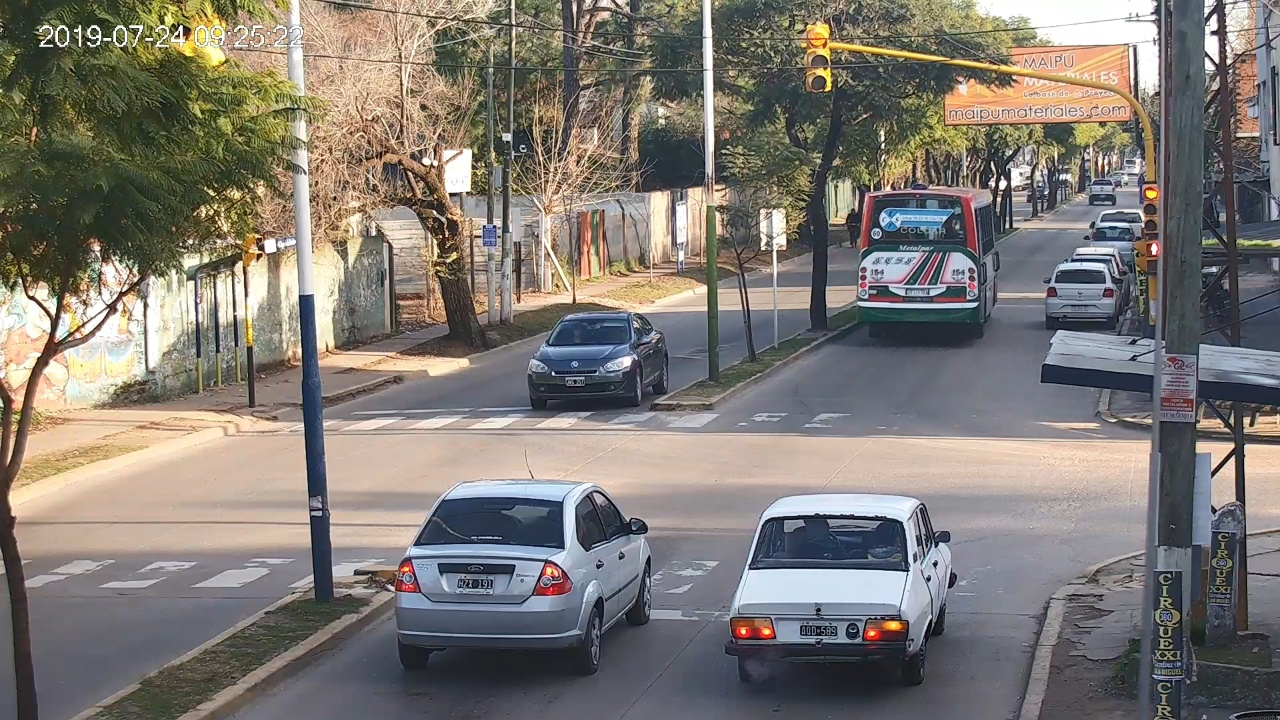bus: (857, 187, 1000, 337)
car: (397, 481, 655, 674), (725, 493, 955, 686)
traffic light: (807, 25, 830, 92), (1142, 183, 1159, 233)
